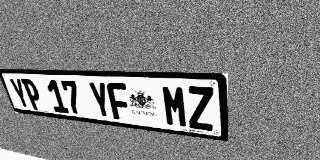1: (44, 80, 69, 114)
7: (59, 80, 85, 115)
F: (106, 82, 132, 121)
M: (161, 85, 189, 128)
P: (21, 79, 45, 111)
Y: (87, 82, 113, 119), (8, 78, 32, 109)
Z: (186, 86, 214, 131)
